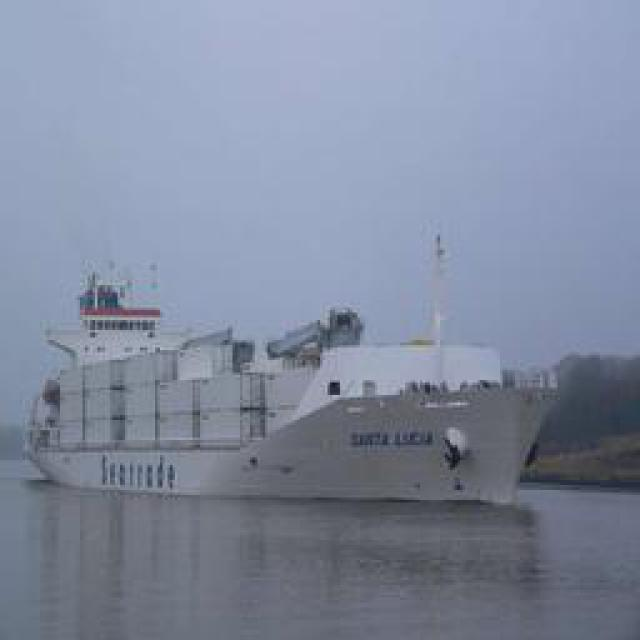Ship: (30, 237, 533, 495)
